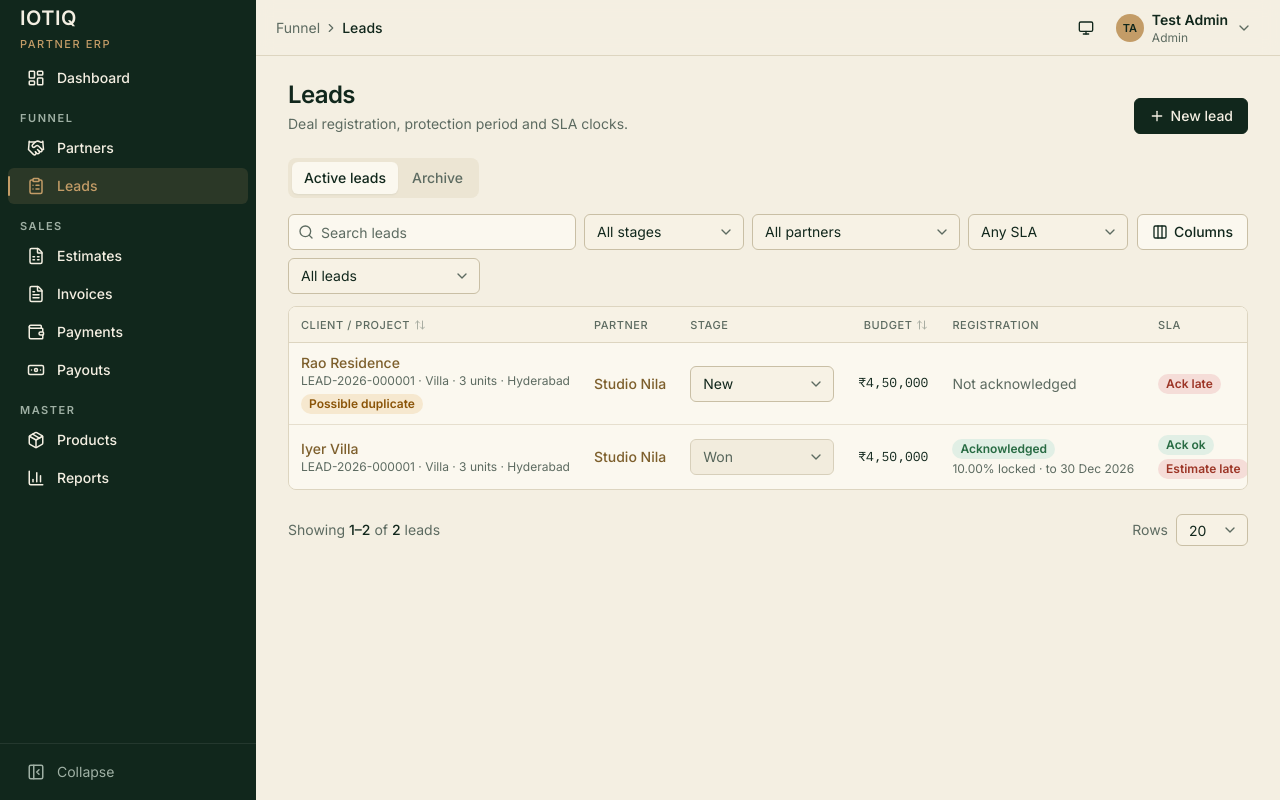
it: lead list › archive tab › lists archived leads with who, when and why and opens a read-only view
Click the tab "Archive" at (438, 178), box [400,162,475,194]
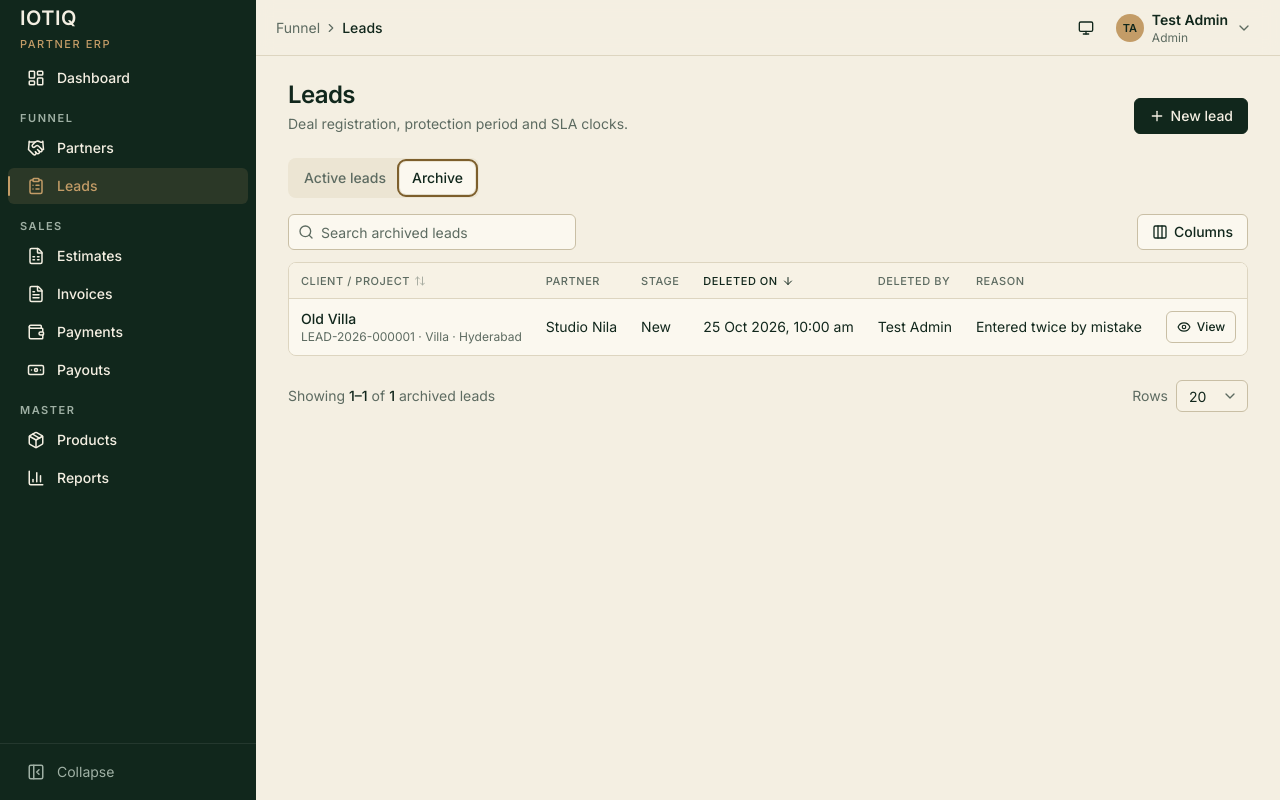
Expected: the text "Test Admin" in the row of "Old Villa" is shown, [878,318,952,335]
Expected: the text "Entered twice by mistake" is shown, [976,317,1142,337]
Expected: the column heading "Deleted on" is shown, [691,263,866,299]
Click the button "View" at (1201, 327), box [1166,311,1236,343]
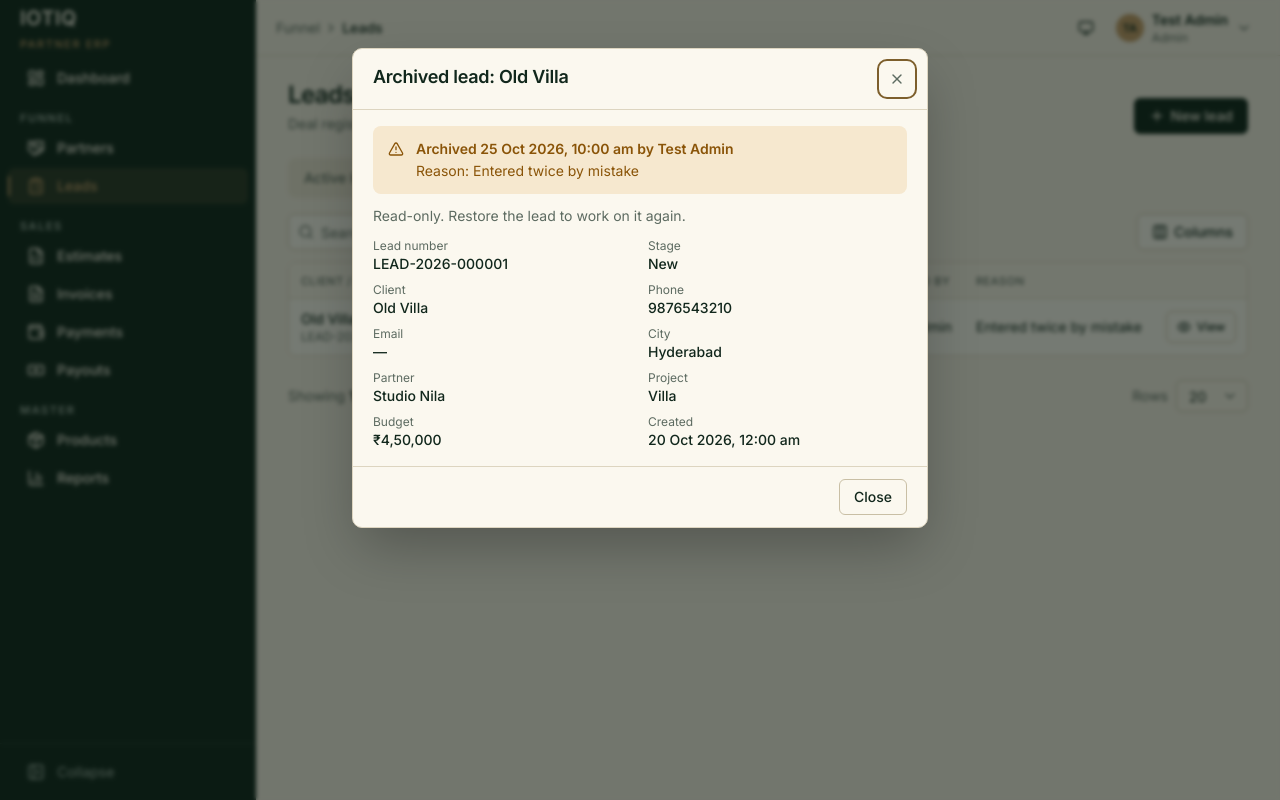
Expected: the text "Reason: Entered twice by mistake" is shown, [416,162,639,179]
Expected: the text "Read-only. Restore the lead to work on it again." is shown, [373,207,686,224]
